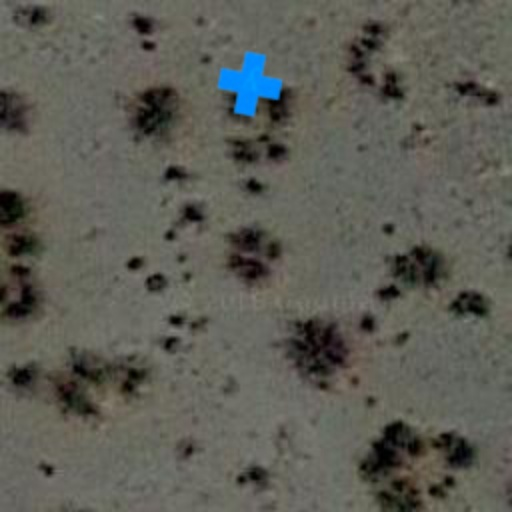cross: (212, 46, 288, 122)
